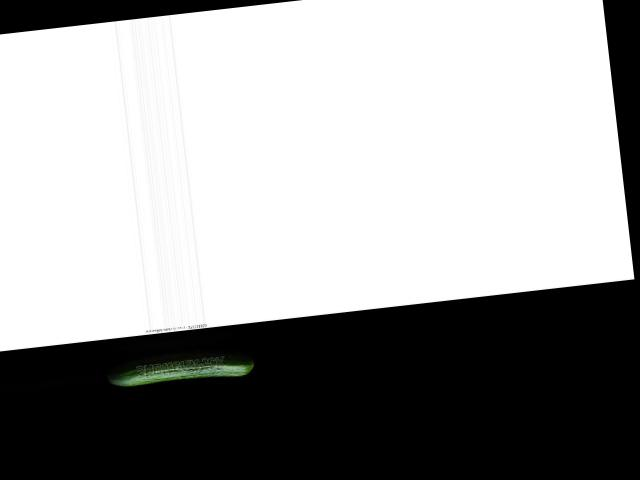cucumber: (107, 351, 256, 389)
